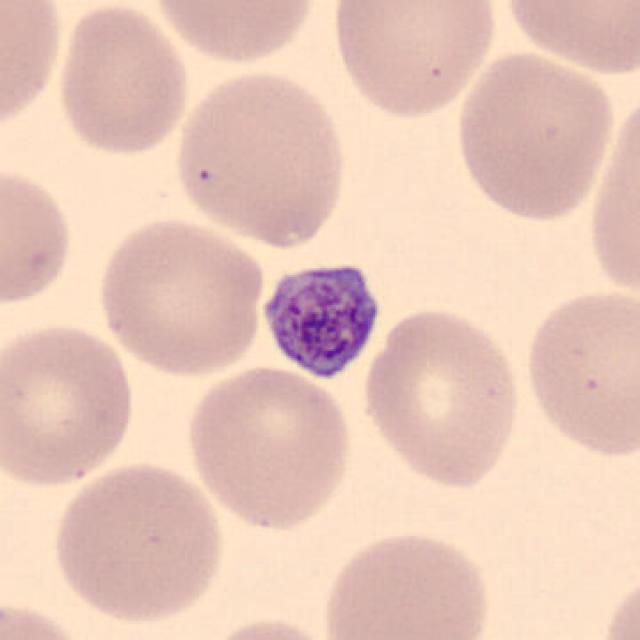Platelets: (250, 252, 386, 384)
RBC: (169, 64, 354, 250), (358, 302, 526, 494), (46, 457, 230, 628), (182, 362, 358, 534), (450, 48, 618, 224), (90, 213, 268, 379), (0, 315, 140, 491), (325, 0, 503, 123), (52, 2, 192, 158), (519, 282, 638, 462), (316, 523, 495, 640), (583, 86, 640, 312), (148, 0, 322, 69), (0, 159, 78, 312), (498, 0, 638, 78), (0, 0, 67, 139), (0, 594, 96, 640), (190, 612, 347, 640), (597, 564, 640, 640)
